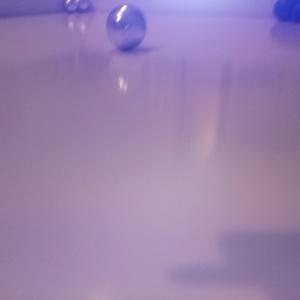alive_ball: (104, 4, 146, 51), (74, 1, 90, 12), (64, 1, 78, 12)
dead_ball: (273, 1, 297, 21), (290, 3, 300, 22)
